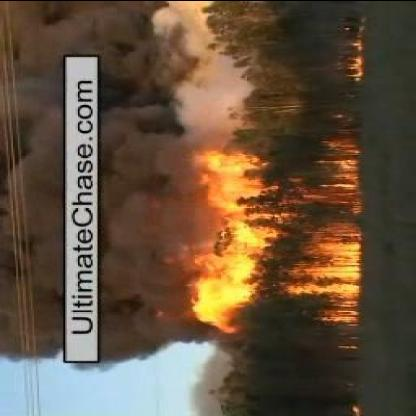-: (102, 50, 190, 361), (12, 69, 56, 358)
foggia-v2-map80-epoch100 - v1 4323: (294, 241, 358, 294)
